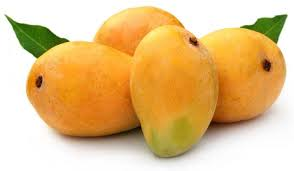mango: (23, 33, 129, 146), (130, 27, 219, 158), (222, 21, 291, 133)
